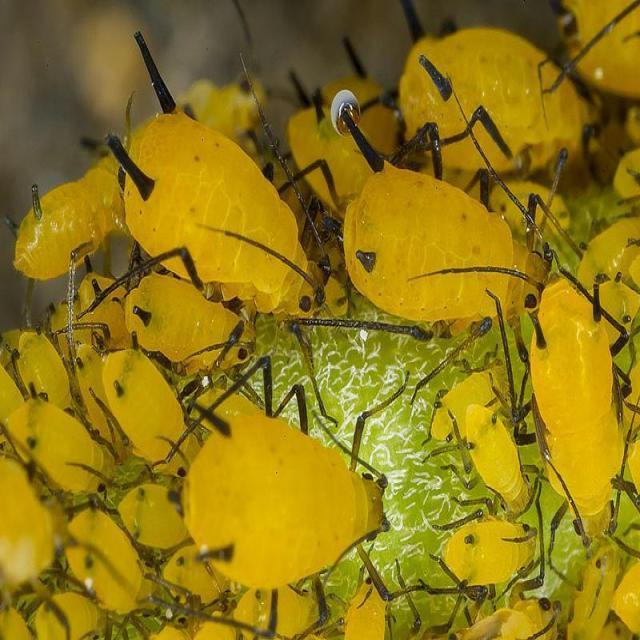aphid: (90, 73, 342, 371), (144, 387, 395, 628), (483, 252, 636, 624), (316, 154, 566, 370), (110, 260, 272, 390), (422, 485, 546, 595), (456, 390, 543, 530)
